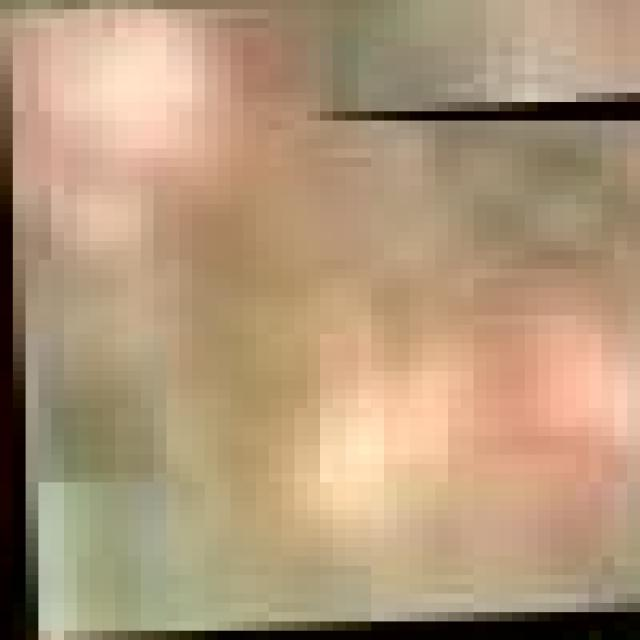fire: (0, 9, 640, 640)
